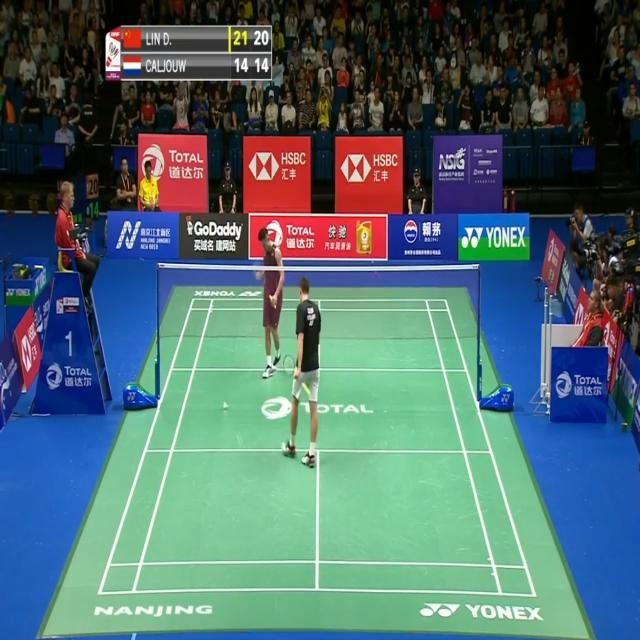Player1: (277, 270, 329, 470)
Player2: (248, 223, 288, 377)
